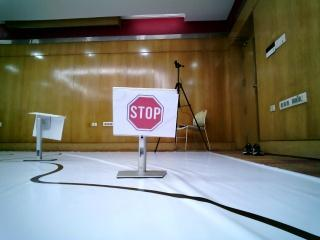stop: (118, 89, 171, 137)
